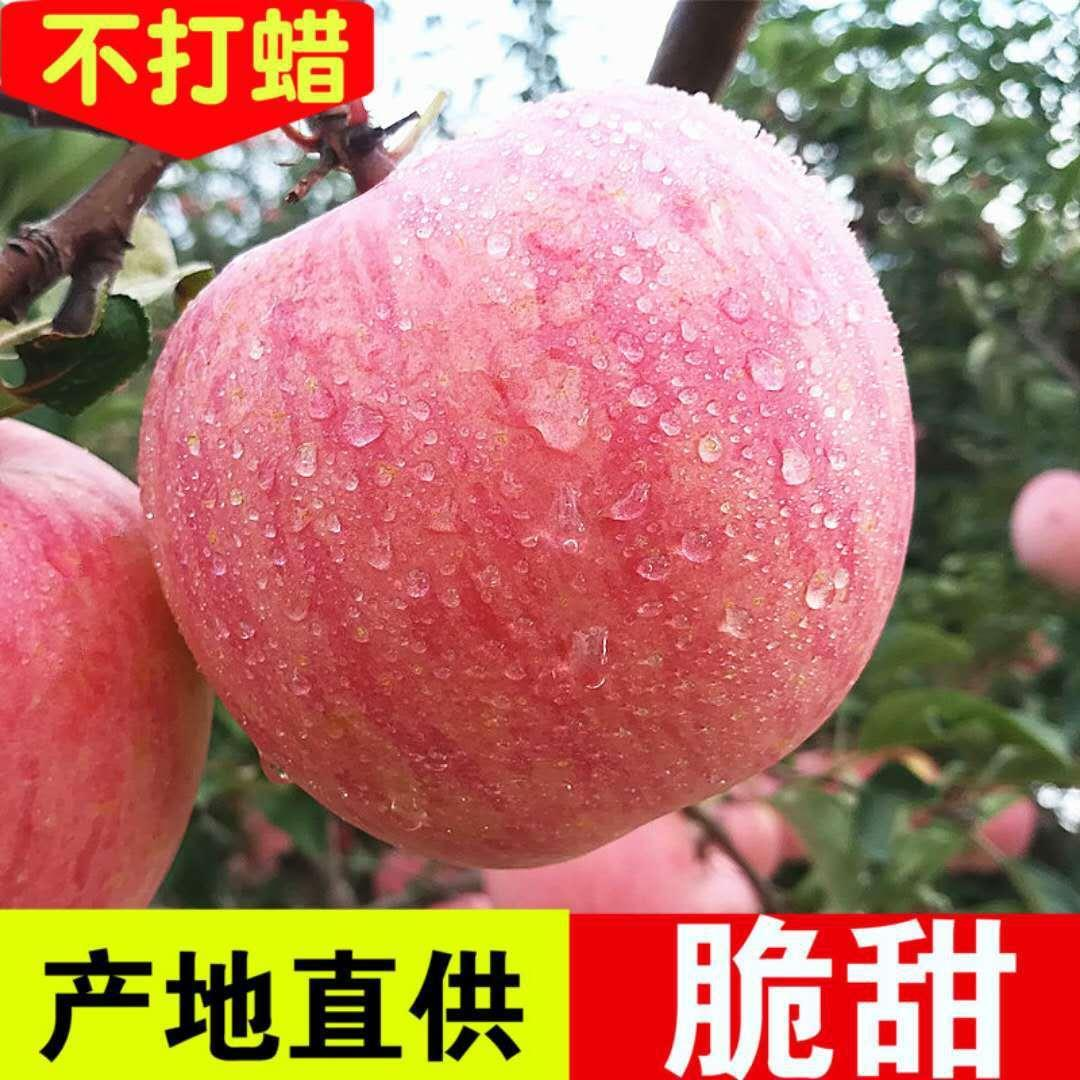apple: (161, 84, 918, 882), (0, 415, 204, 900)
